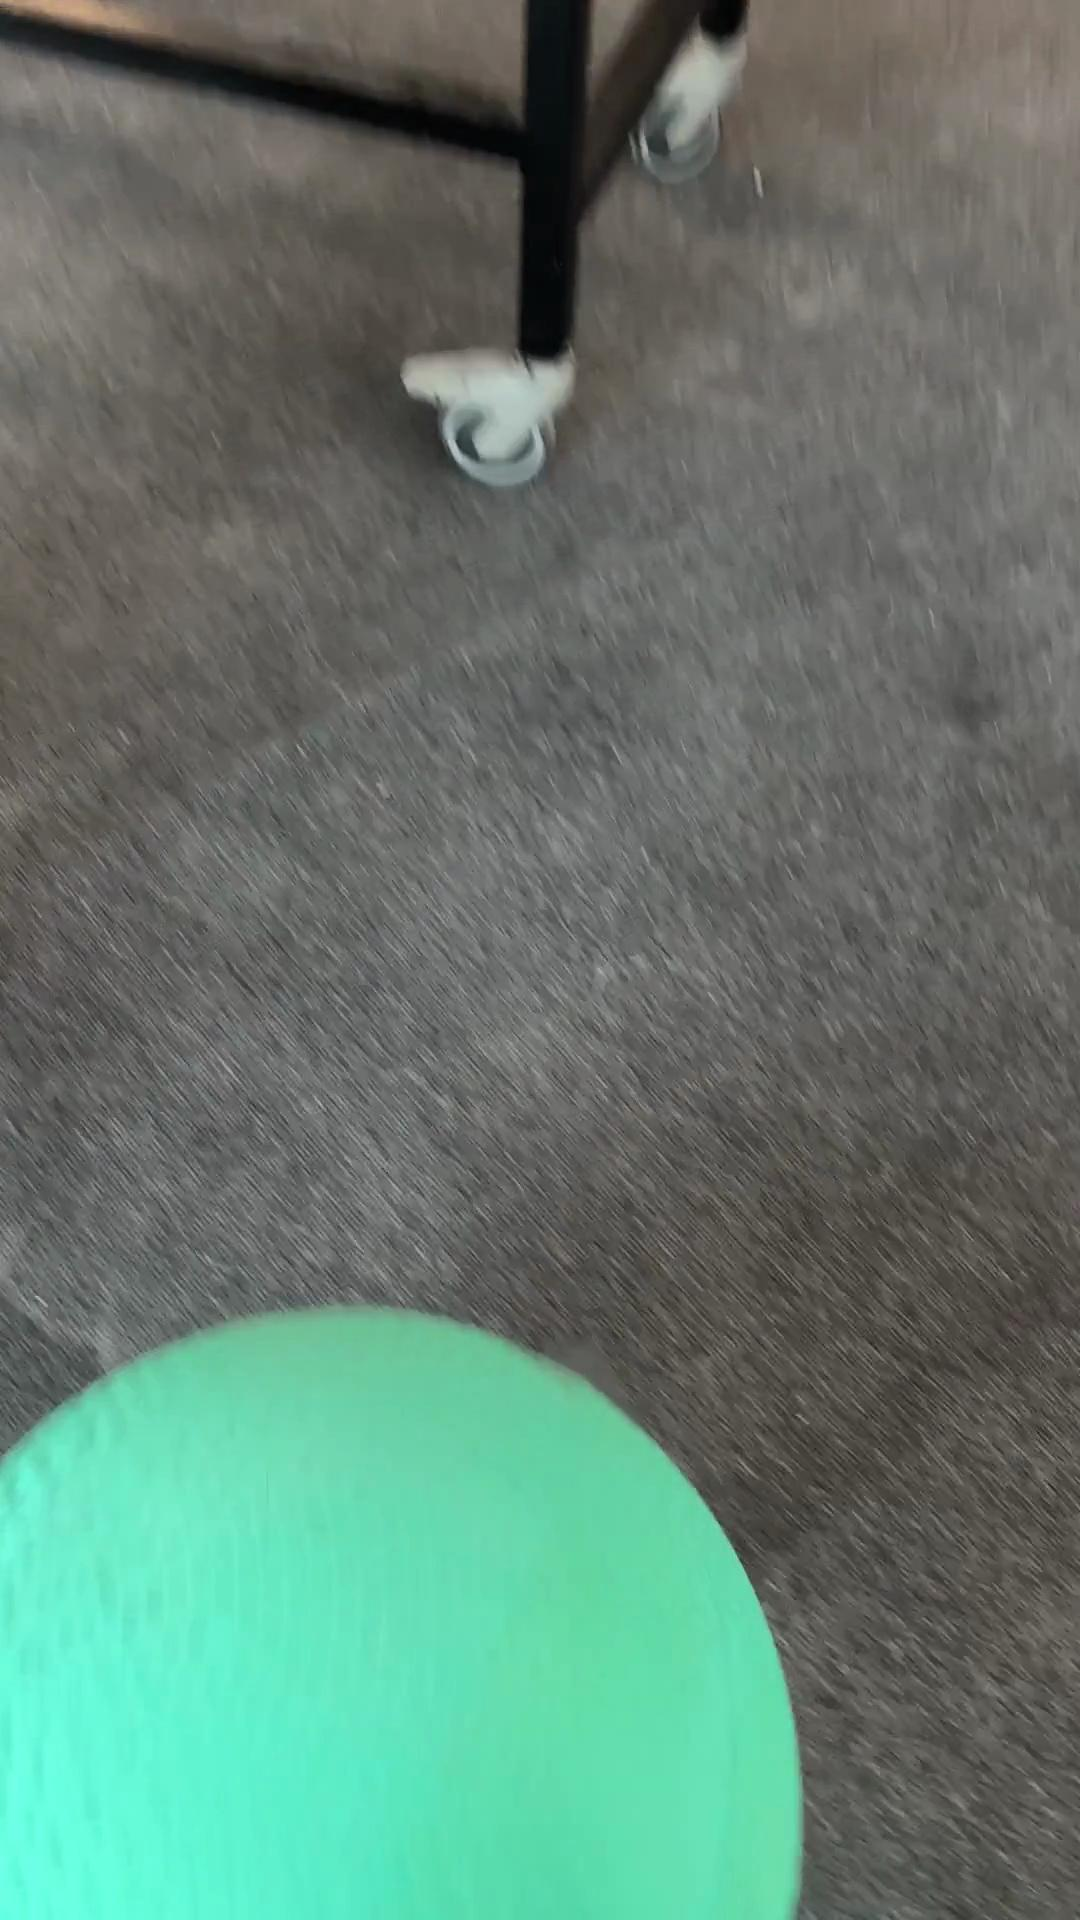ALGAE: (1, 1302, 806, 1916)
